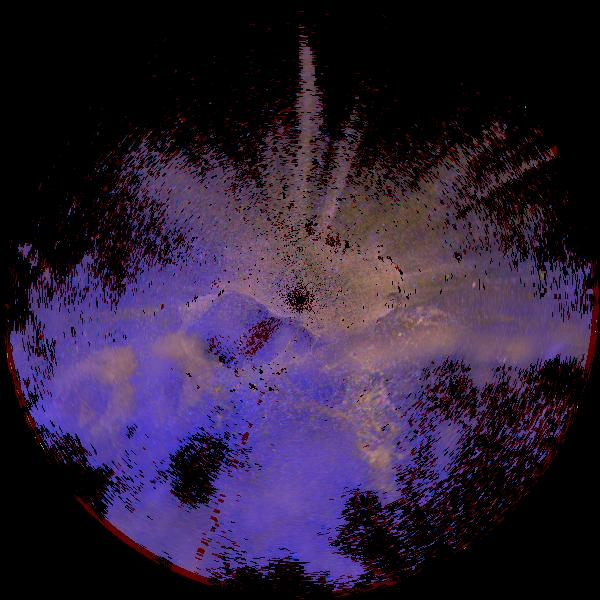roost: (51, 353, 138, 440), (129, 332, 216, 419)
